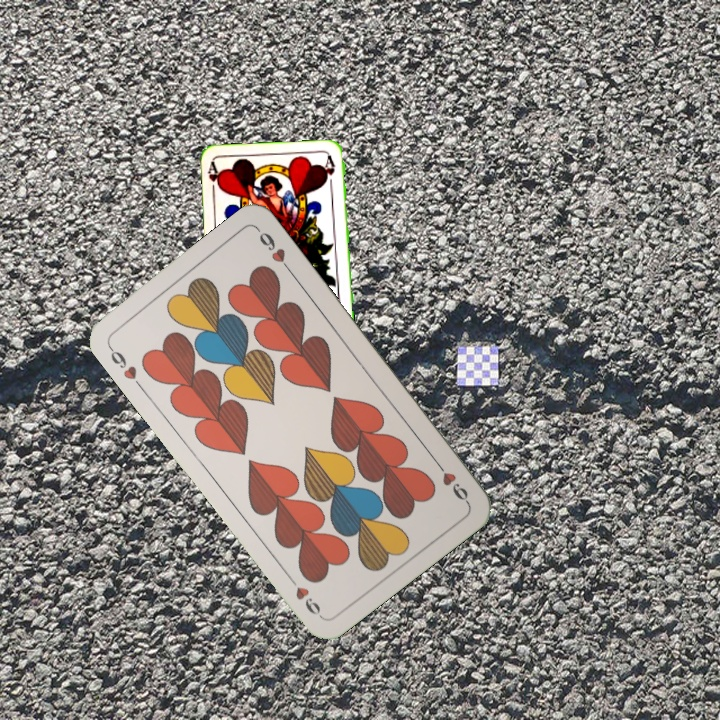H9: (430, 455, 471, 506), (103, 341, 140, 383)
HA: (203, 159, 223, 200)
